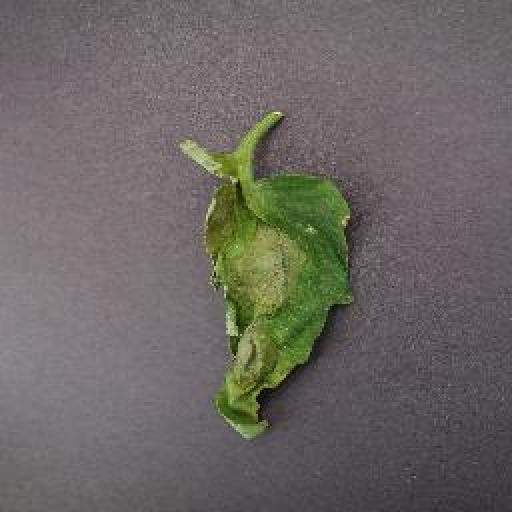disease_tomato: (176, 138, 362, 444)
